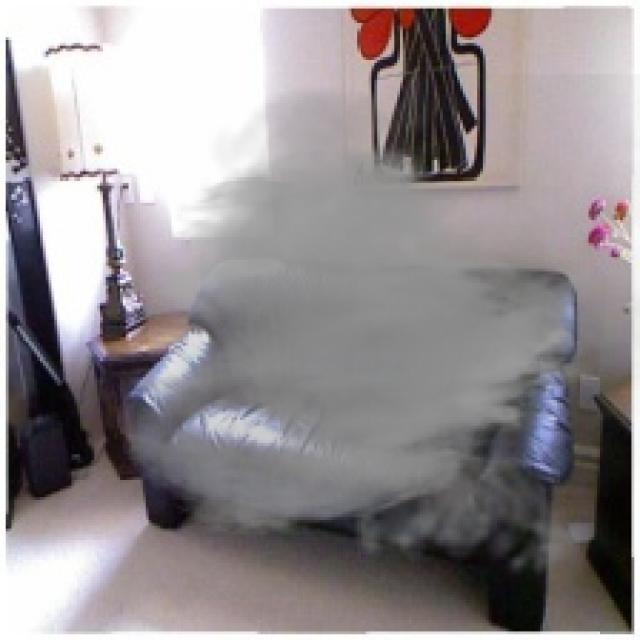Smoke: (112, 75, 638, 594)
